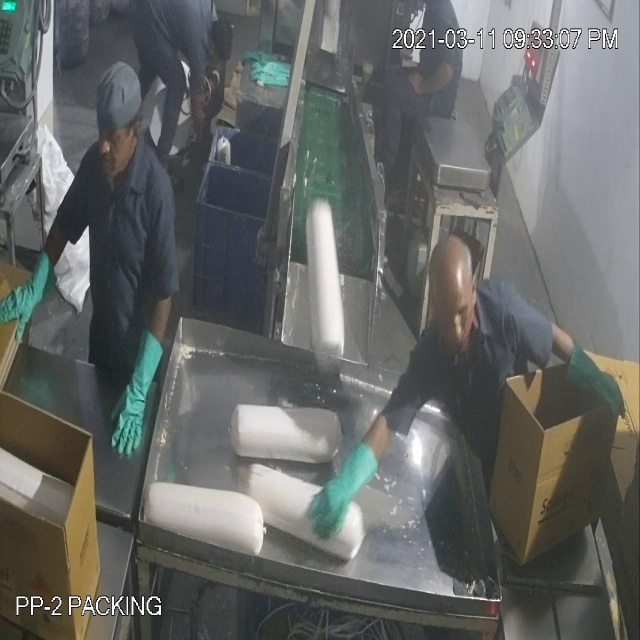Guantes: (104, 320, 168, 466), (306, 434, 381, 553), (0, 230, 67, 363), (564, 334, 630, 426)
Sin_guantes: (404, 60, 463, 98)
